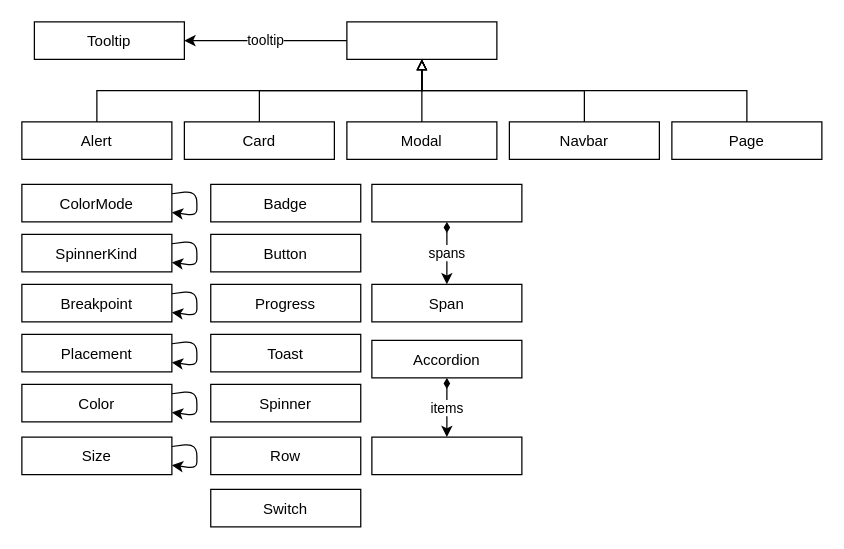
The diagram is 844 pixels wide and 549 high, and some of its shapes have lost their labels. The centre of each missing label's shape, as x and y in pixels:
AccordionItem: pixel 446 455
Column: pixel 446 202
Themed: pixel 421 40
